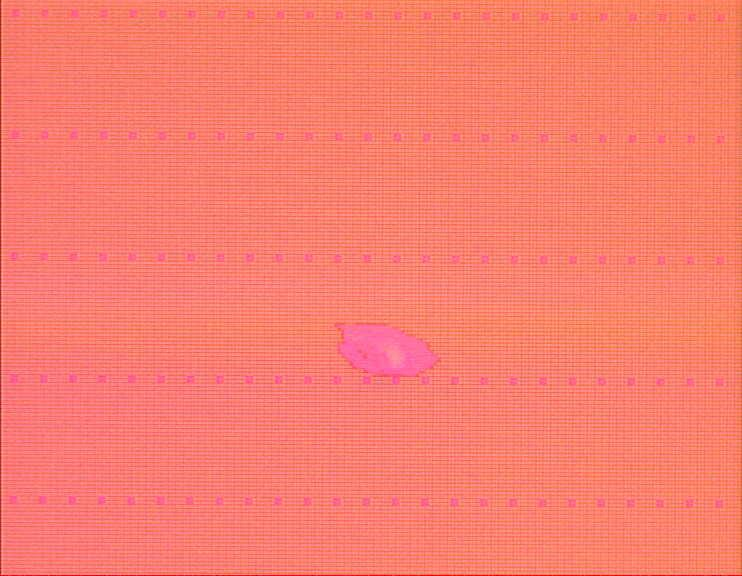BLOCK ETCH: (329, 314, 444, 390)
